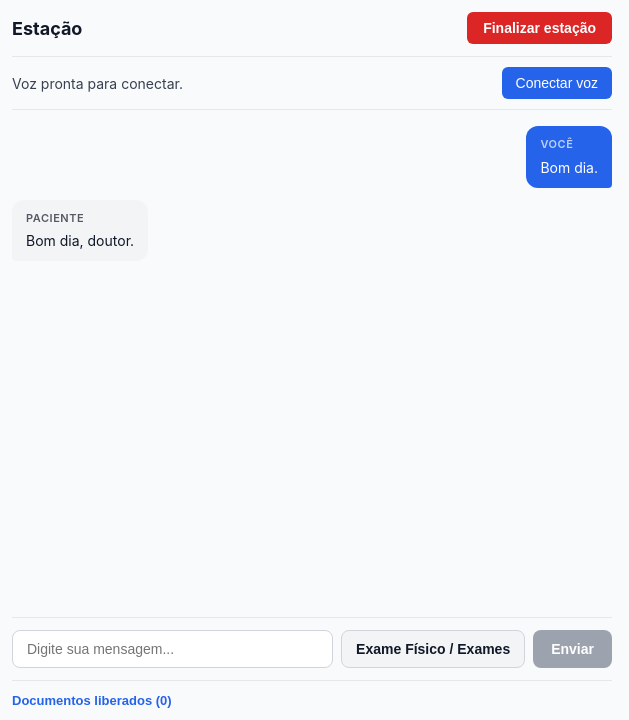
Test: StationScreen real-time voice (#270) › hosts the voice panel and hides the turn-based voice buttons
Step 1. Click the button with test id "voice-toggle-button" → (557, 83), box [502,67,612,99]
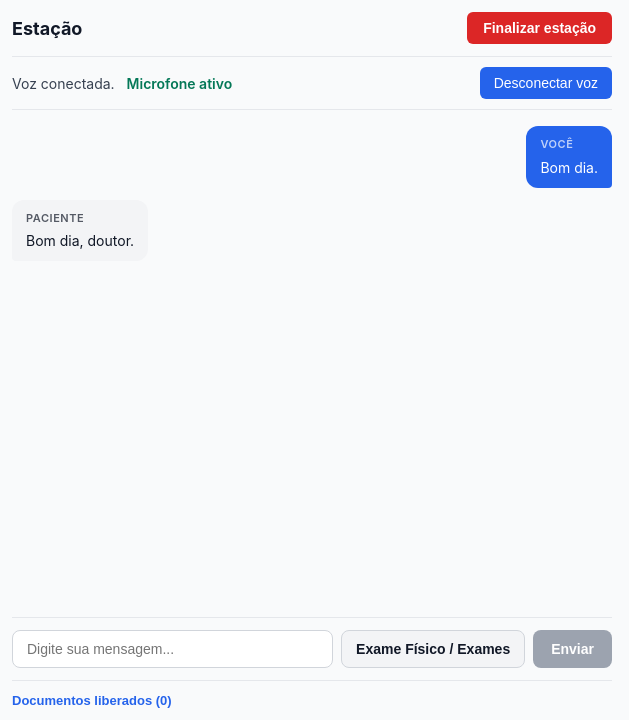
expect the text with test id "voice-status" reads "Voz conectada.": met, box [12,74,115,92]
